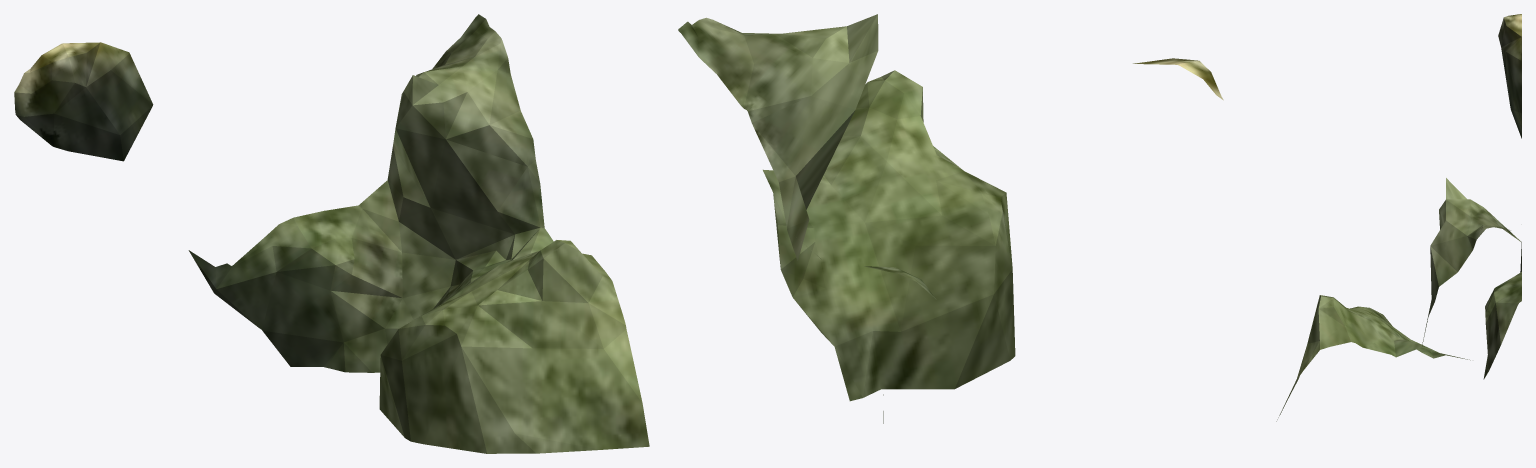
3 renders of one model, left to right at view 1: azimuth 30°, elevation 25°; view 2: azimuth 150°, elevation 25°; view 3: azimuth 270°, elevation 25°, orthographic. The views are drawn at different scales.
Size of the model in its own units: 2.45 by 1.91 by 1.57.
1 material, 1 textured.
